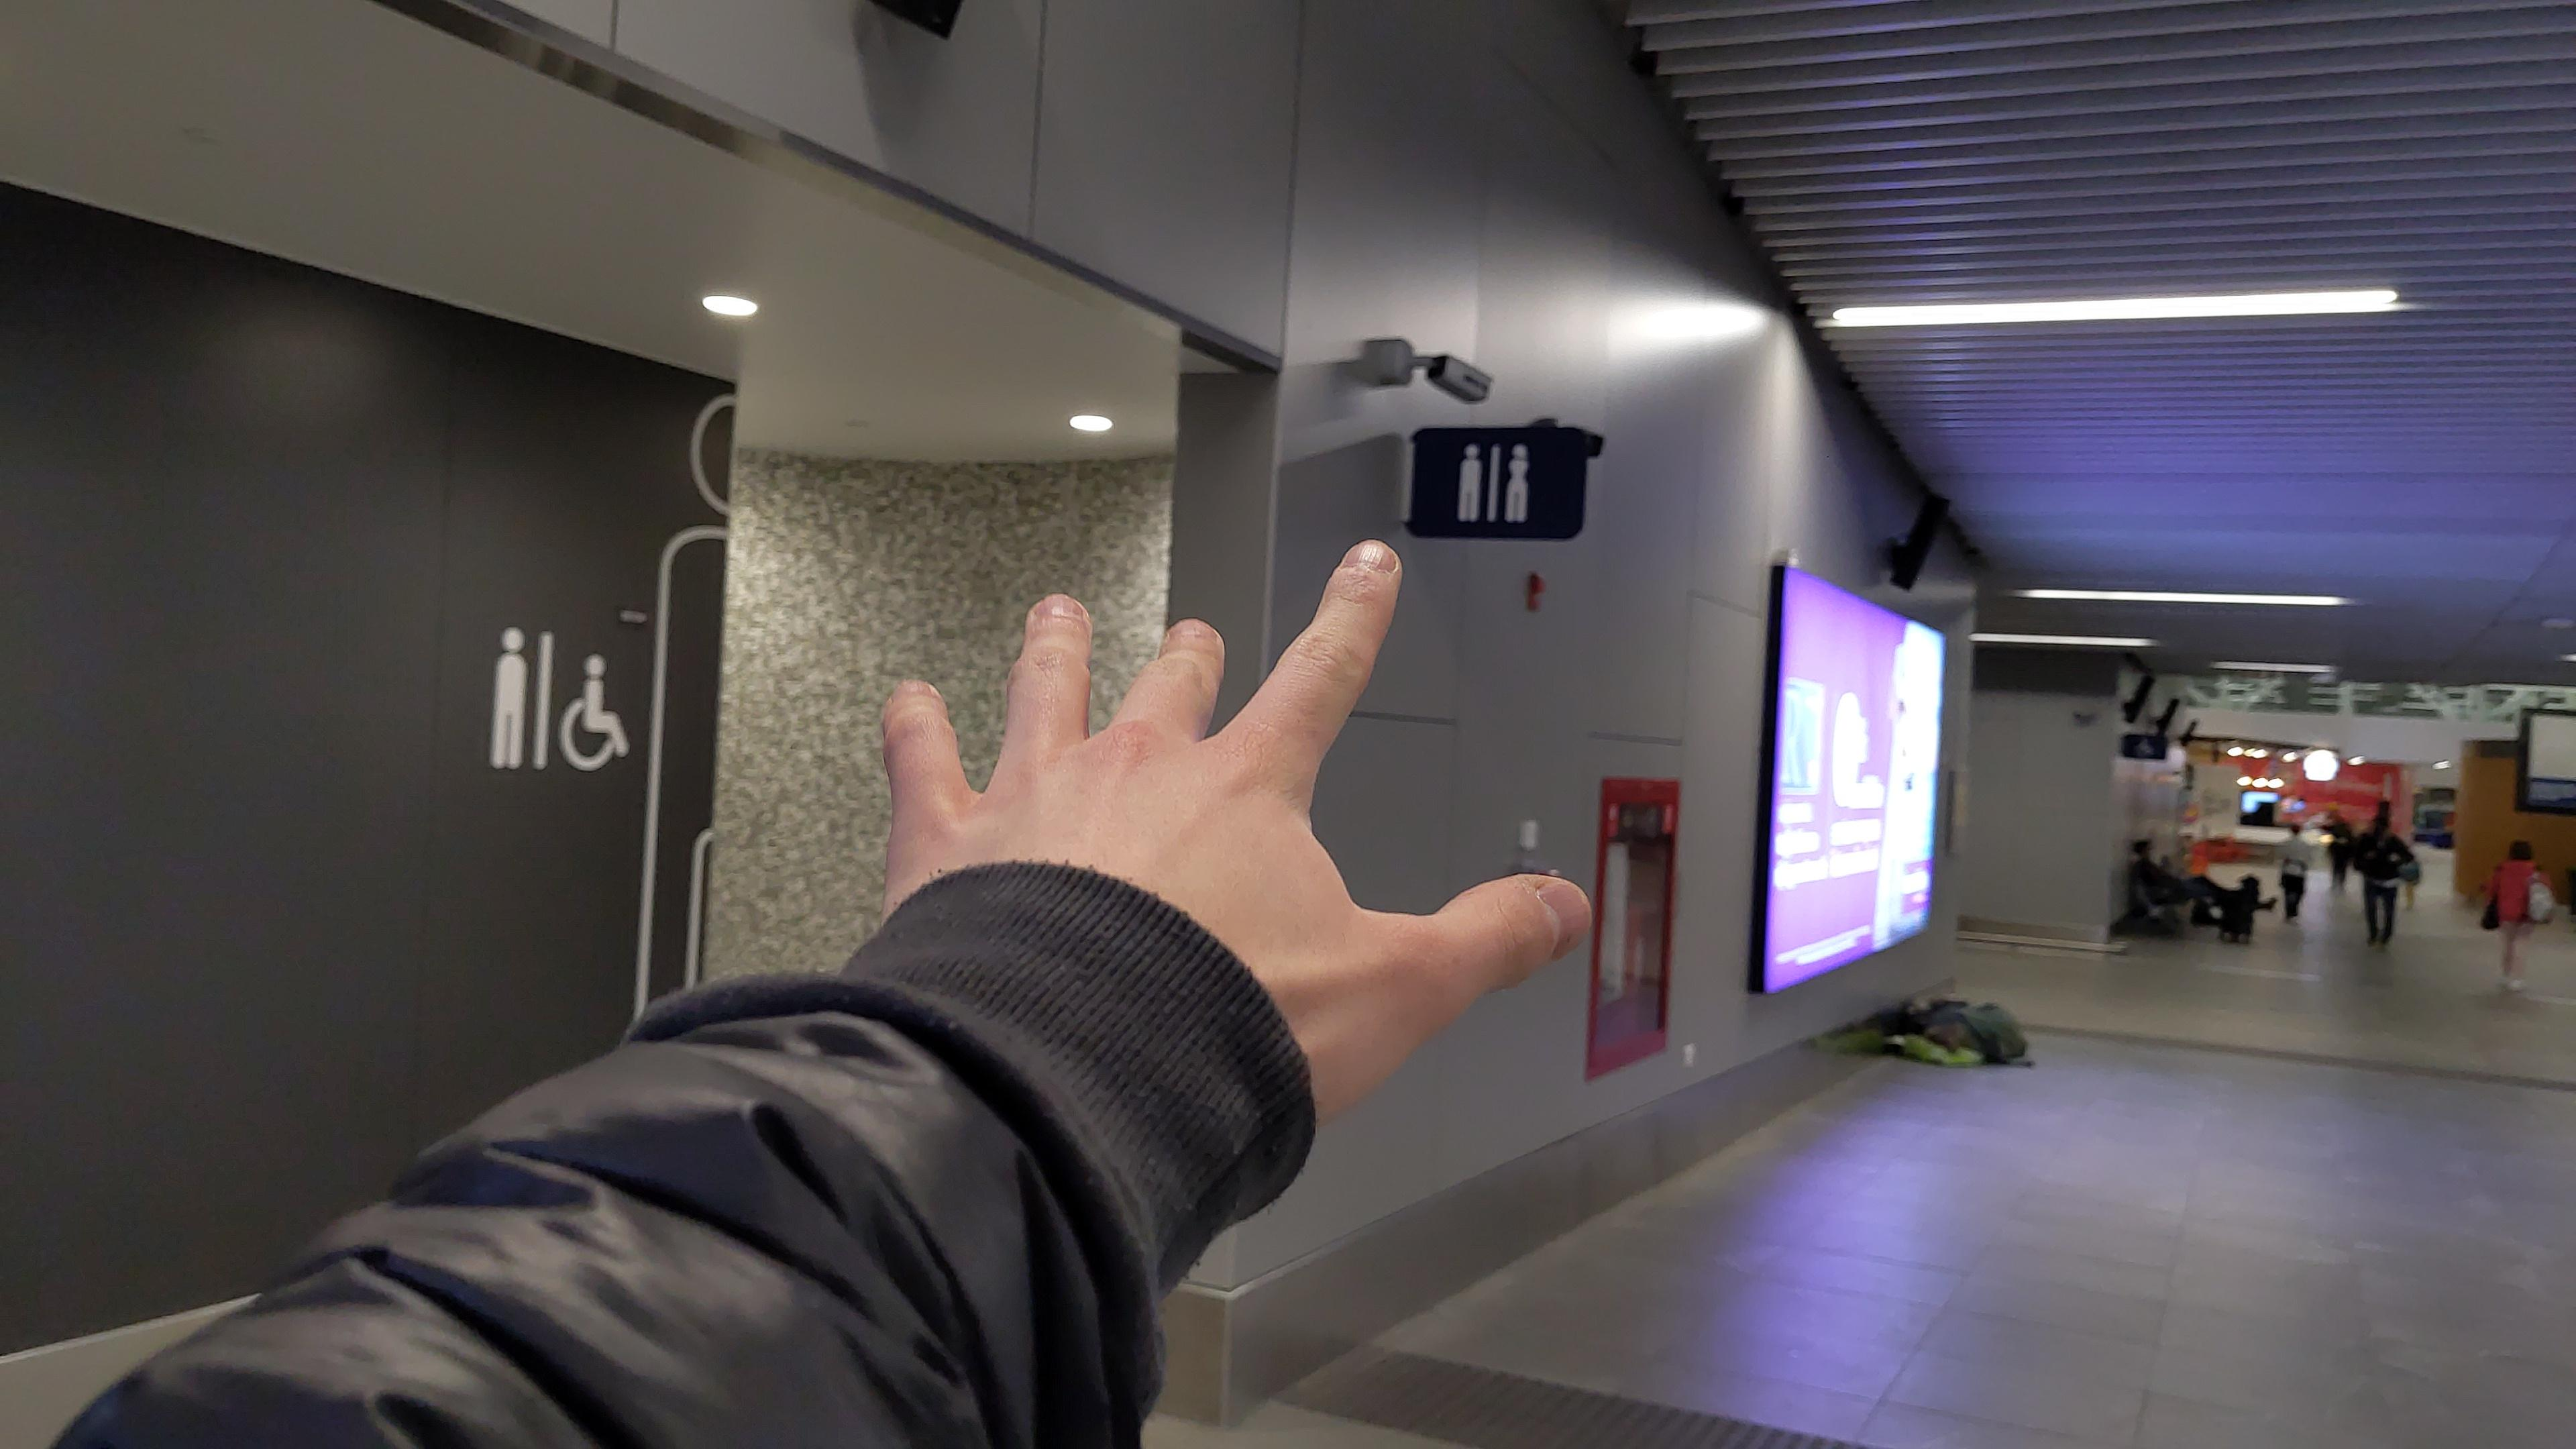bathrooms: (1449, 441, 1537, 531)
handicapped symbol: (559, 653, 632, 775)
